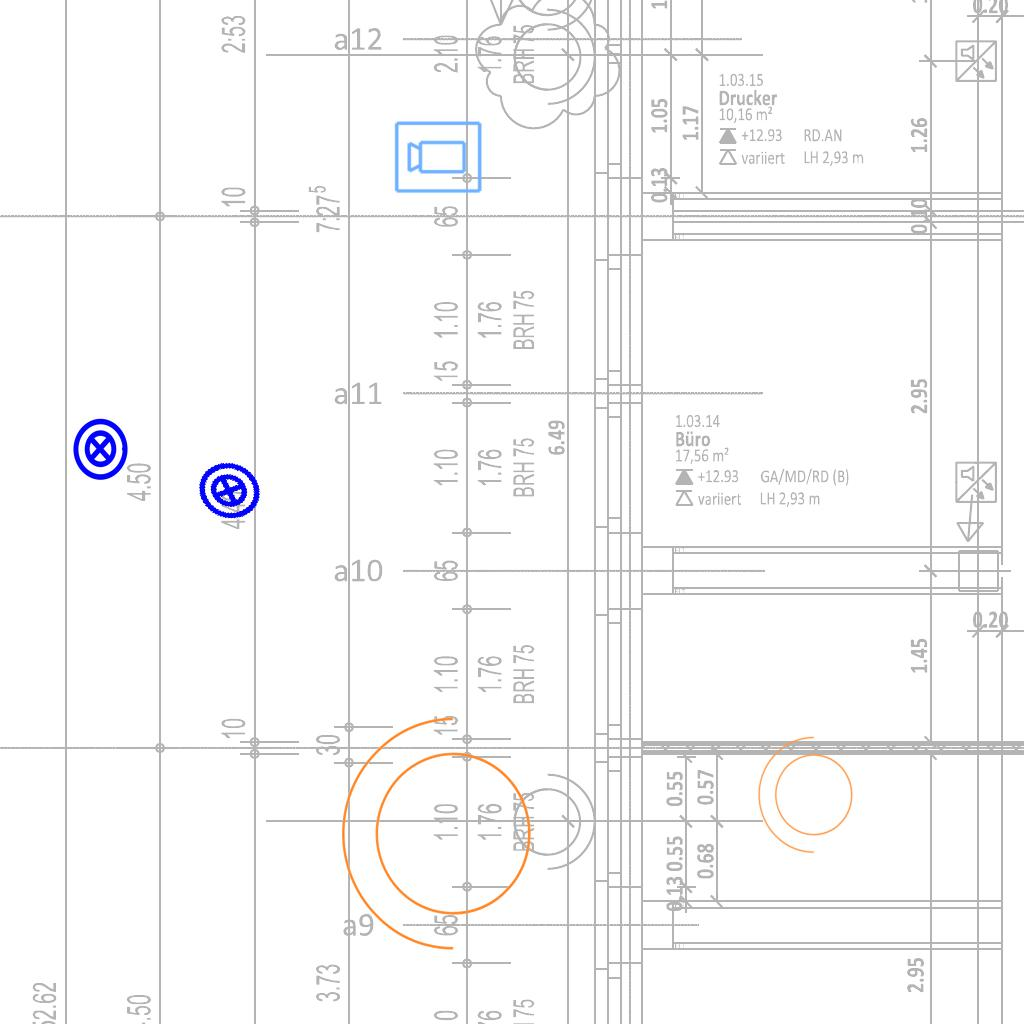KFO_Kamera_mit_Festobjektiv: (393, 118, 484, 195)
Scheinwerfer_fuer_Alarmbeleuchtung: (331, 708, 556, 972), (753, 732, 865, 864)
Taster_beleuchtet: (186, 448, 272, 534), (67, 416, 133, 482)
